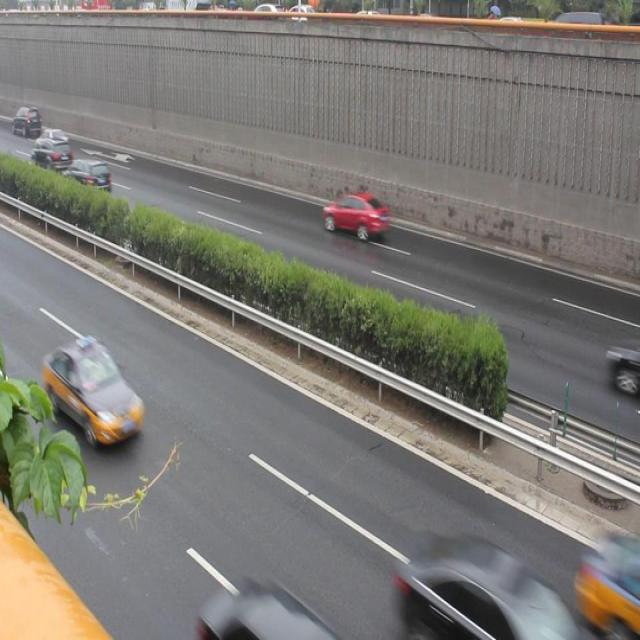car: (397, 544, 593, 640), (42, 334, 149, 444), (210, 578, 340, 640), (319, 186, 386, 244), (64, 152, 111, 198), (33, 138, 72, 176)
